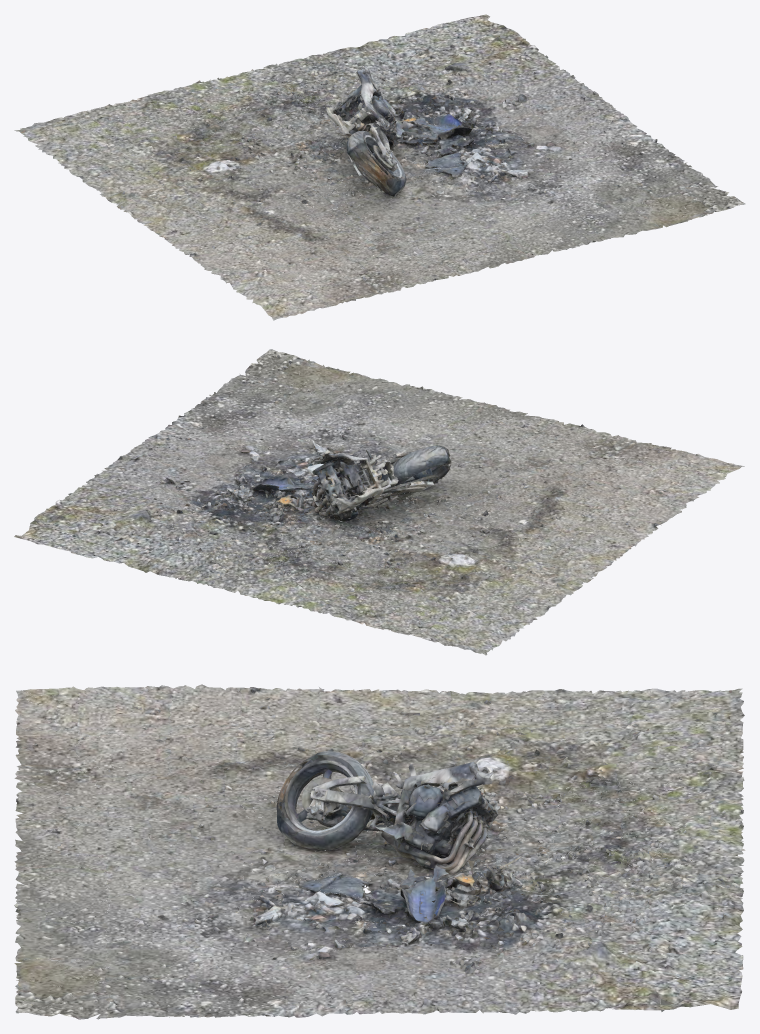
The model's file is moto_wreck.glb.
The picture shows the model from 3 angles, top to bottom: view 1: azimuth 30°, elevation 25°; view 2: azimuth 150°, elevation 25°; view 3: azimuth 270°, elevation 25°; orthographic projection. The views are drawn at different scales.
Visible parts, largest first — view 1: Object_2, Object_3; view 2: Object_2, Object_3; view 3: Object_2, Object_3.
Boxes of the visible parts, bbox=[...] form: Object_2: bbox=[14, 14, 745, 319]; Object_3: bbox=[168, 76, 742, 320]; Object_2: bbox=[14, 349, 742, 655]; Object_3: bbox=[224, 351, 744, 604]; Object_2: bbox=[14, 684, 745, 1018]; Object_3: bbox=[14, 690, 693, 1019].
Size of the model in its own units: 52.43 by 8.14 by 49.56.
1 material, 1 textured.
